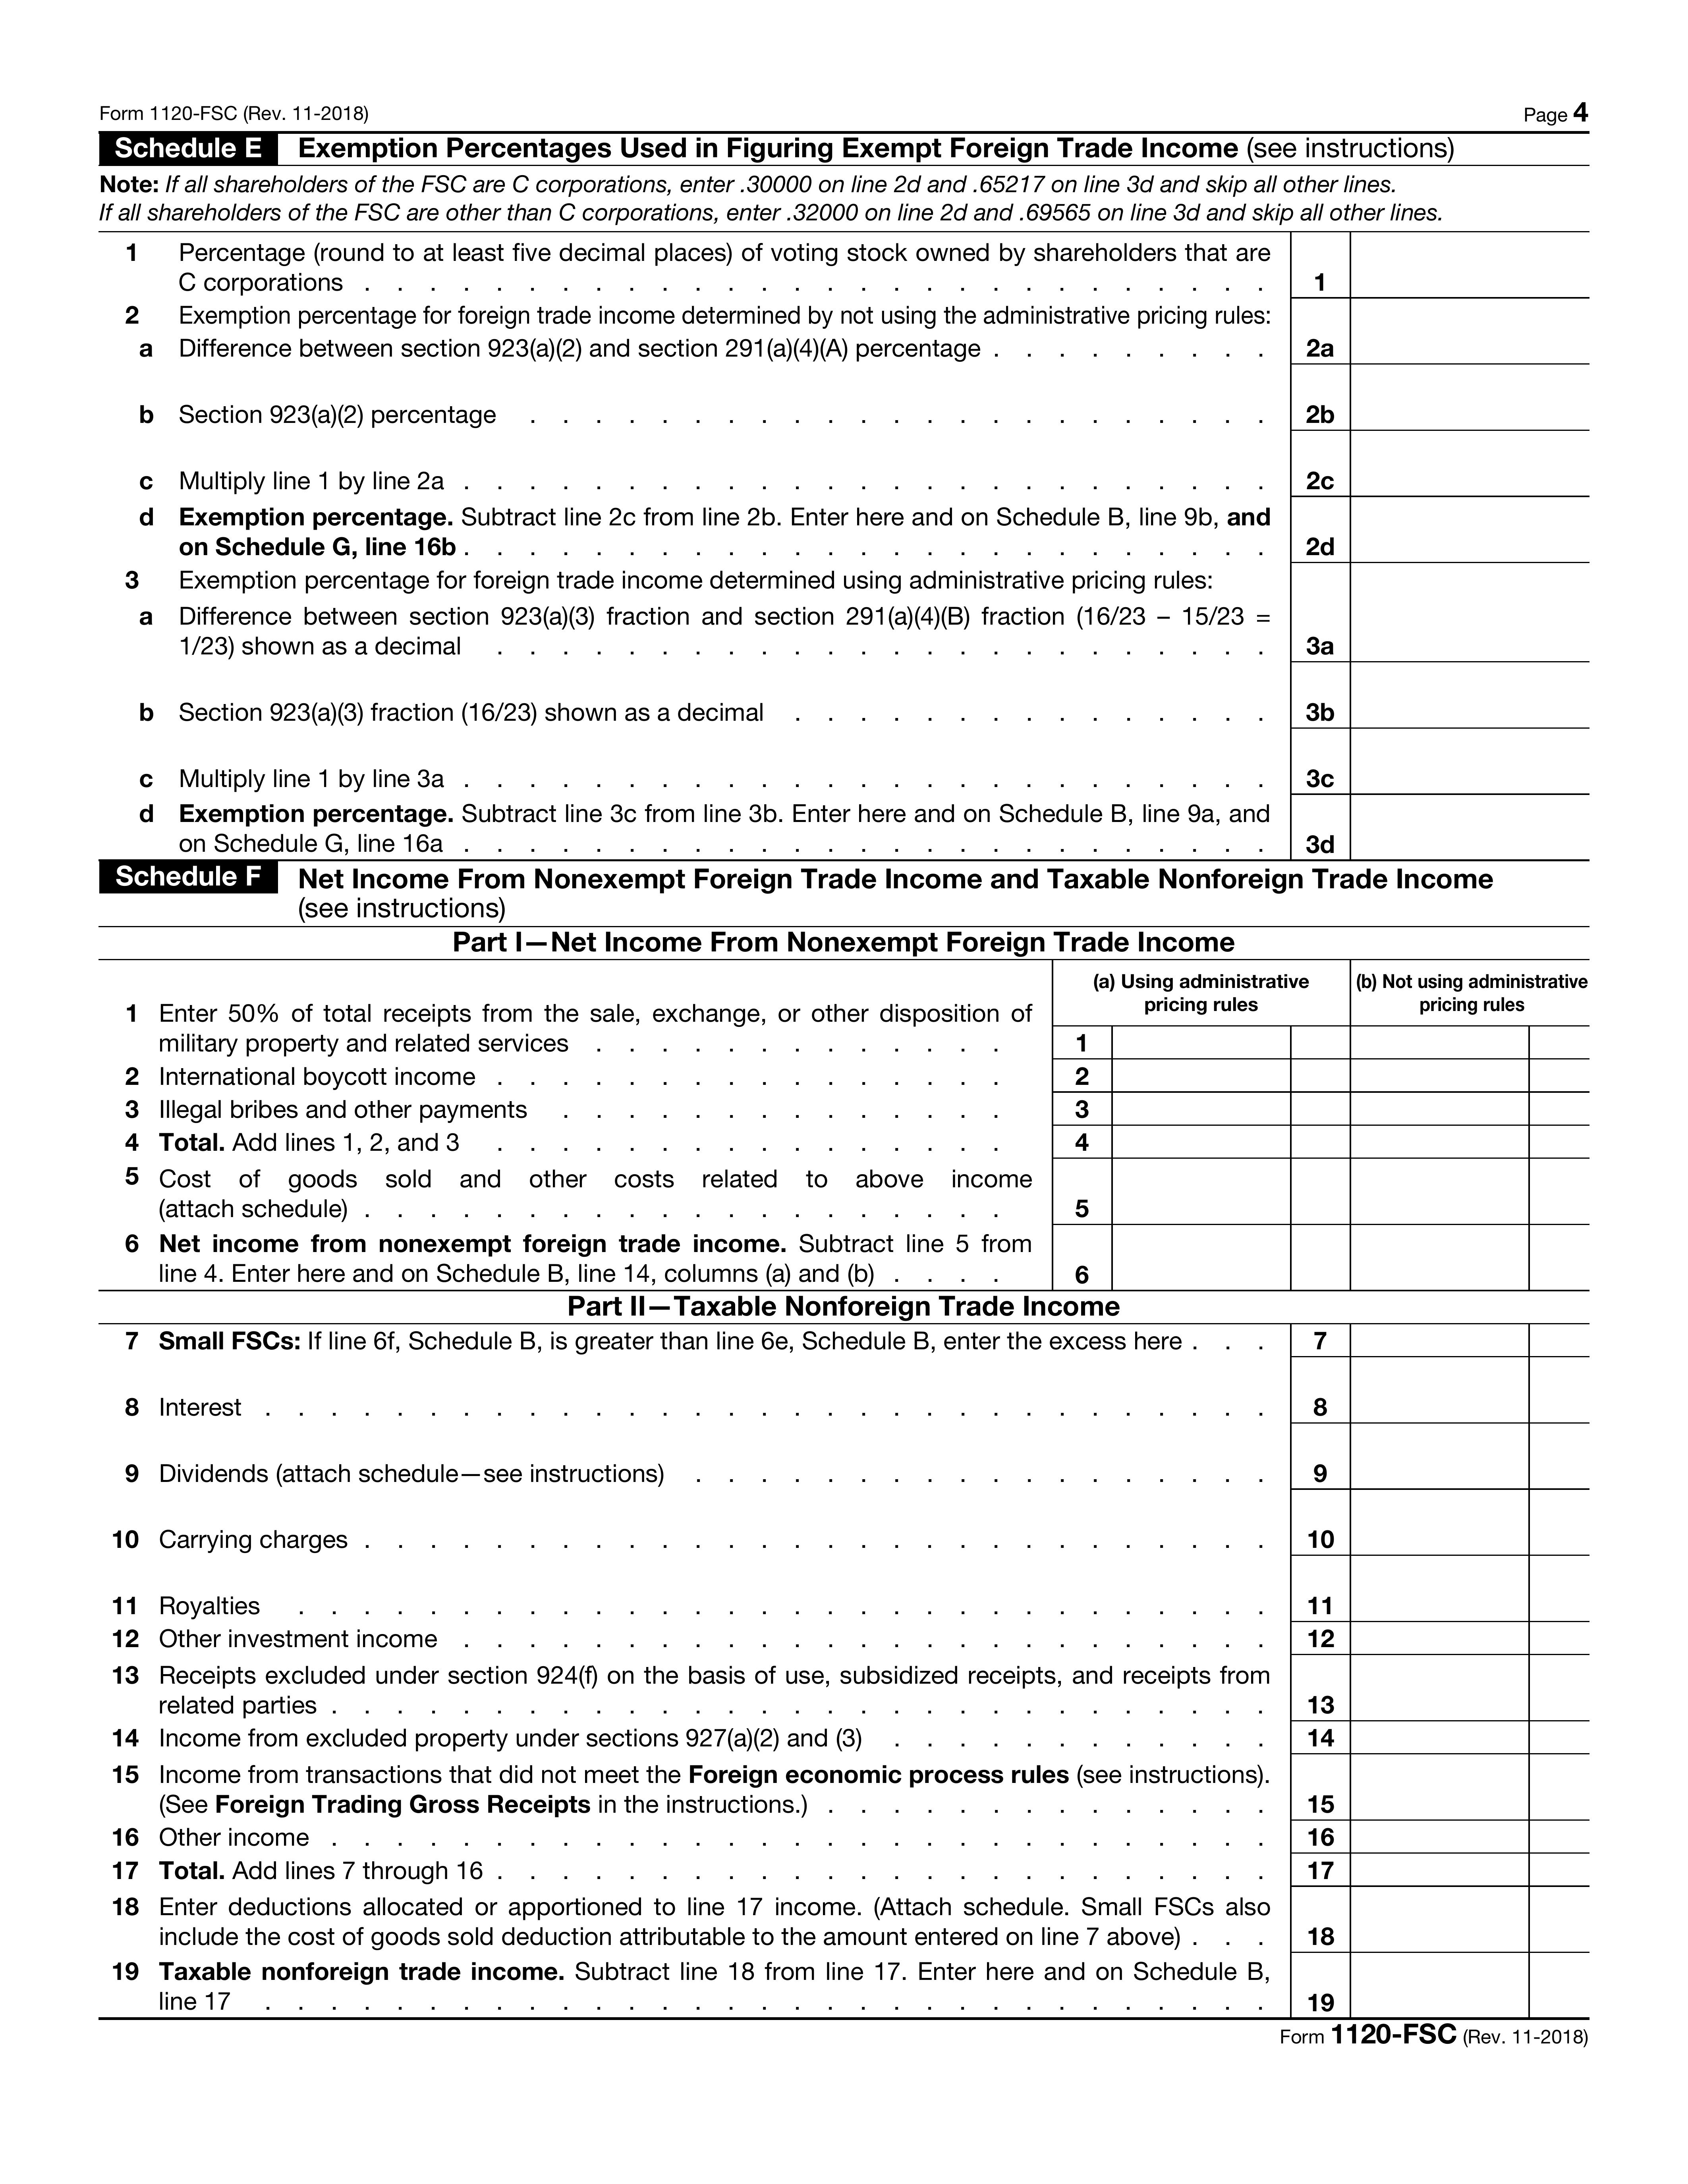table: (89, 1326, 1605, 2024), (103, 232, 1599, 860), (105, 959, 1612, 1294)
